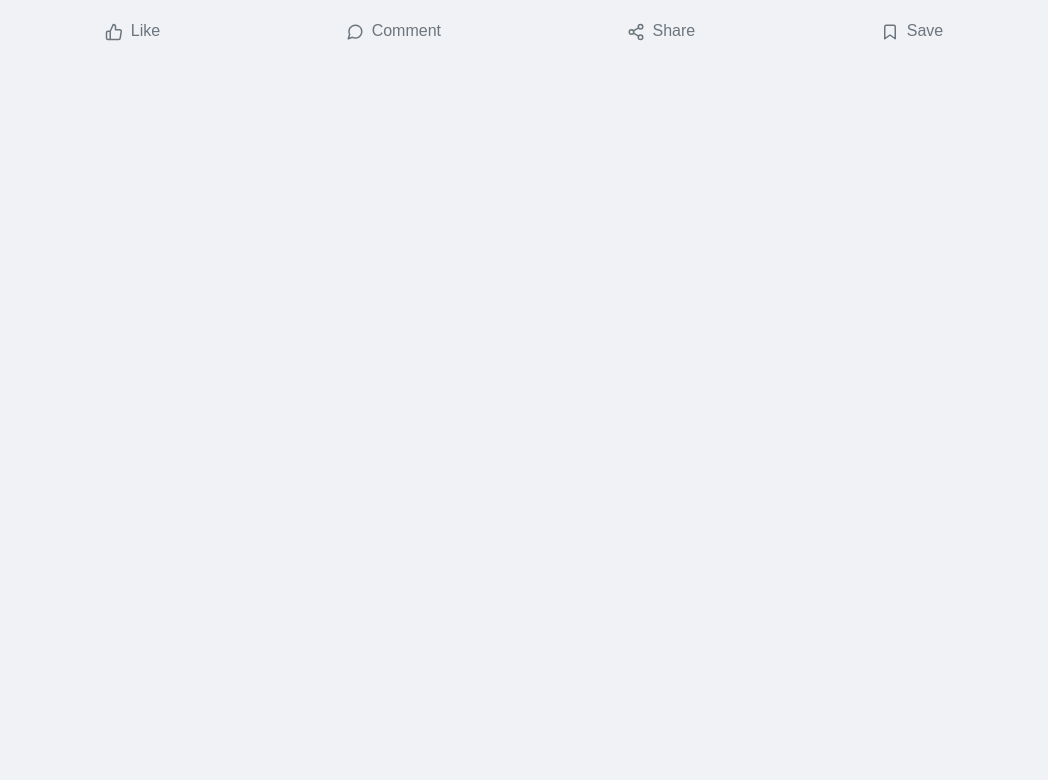
Test case: PostActions › saves the post when Save is clicked
Click the button "Save": (912,31) [788, 12, 1036, 50]
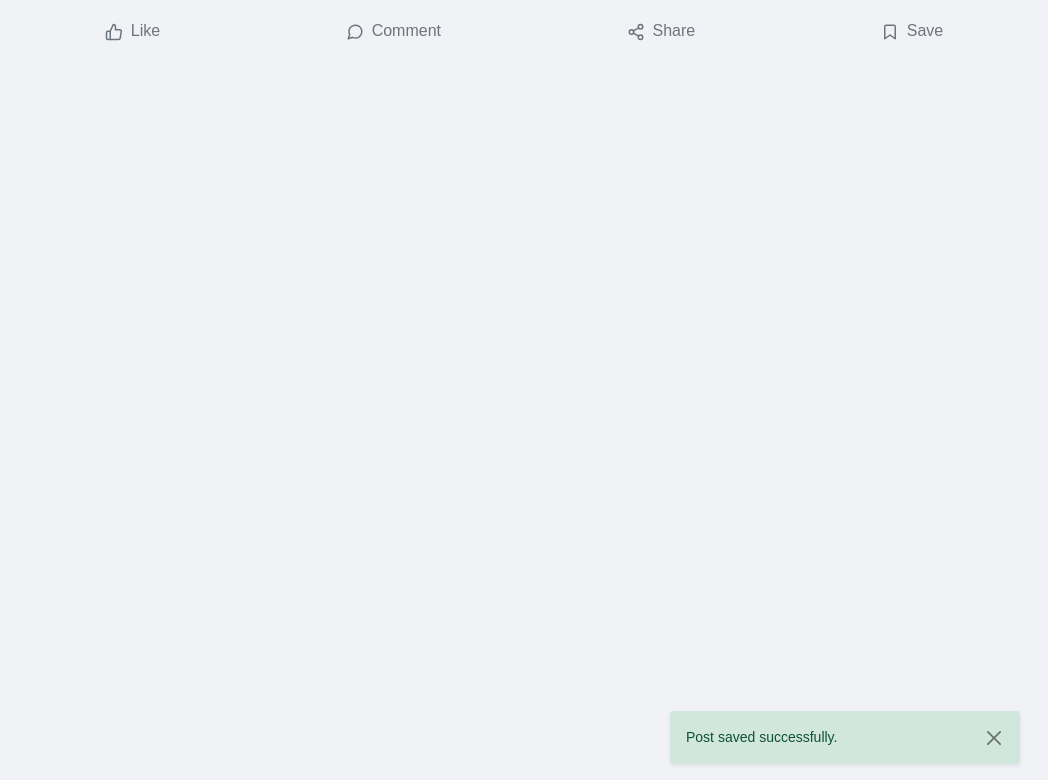
Result: the text "Post saved successfully." is shown at [686, 727, 838, 748]
